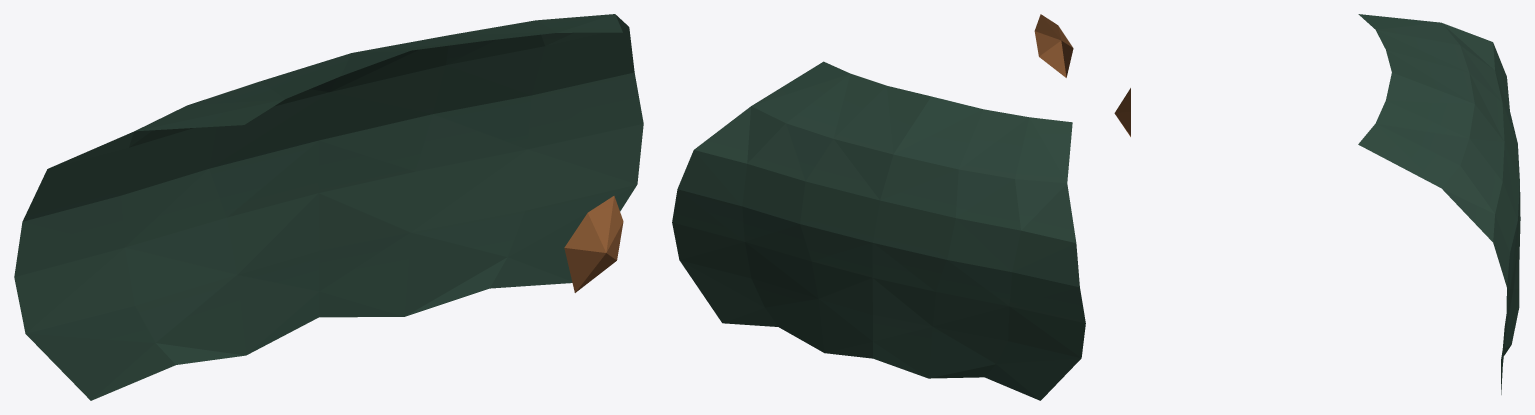
Rendered from hobbit_capa_1.glb.
The picture shows the model from 3 angles, left to right: view 1: azimuth 30°, elevation 25°; view 2: azimuth 150°, elevation 25°; view 3: azimuth 270°, elevation 25°; orthographic projection. The views are drawn at different scales.
Parts seen in each view (by area): view 1: hobbit_capa_1; view 2: hobbit_capa_1; view 3: hobbit_capa_1.
Boxes of the visible parts, left/top/right/bottom form: hobbit_capa_1: left=14, top=14, right=643, bottom=400; hobbit_capa_1: left=672, top=14, right=1085, bottom=400; hobbit_capa_1: left=1114, top=14, right=1520, bottom=394.
Size of the model in its own units: 1.08 by 0.571 by 0.8561.
Materials: 1 (1 with a texture image).
